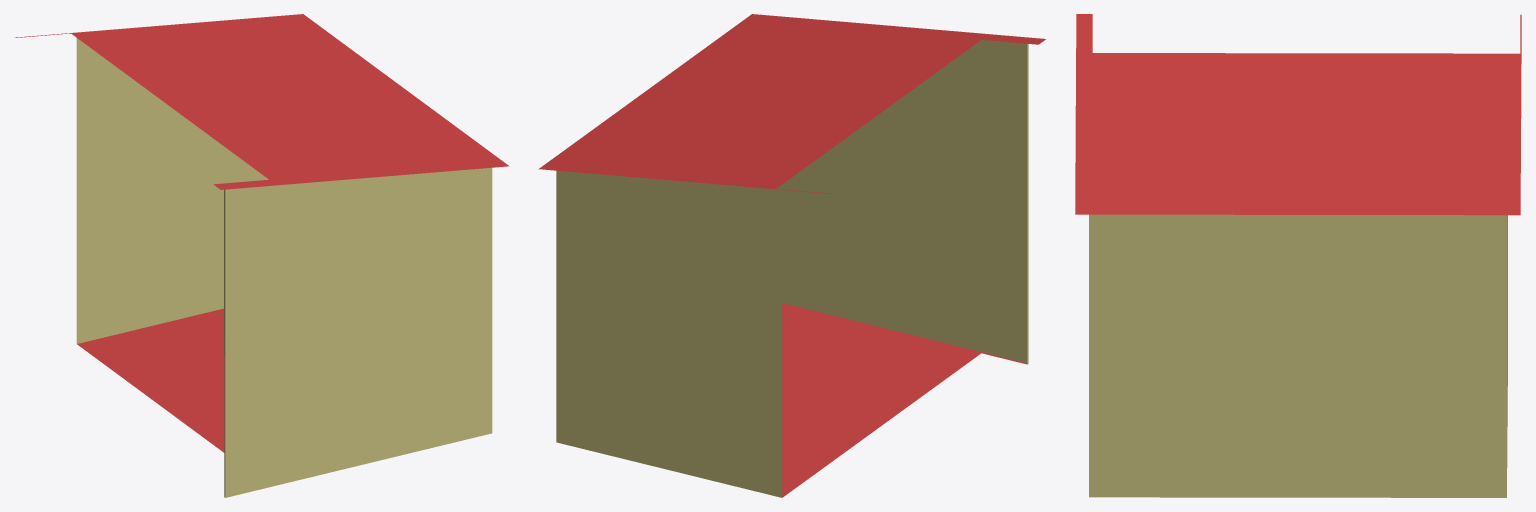
3 renders of one model, left to right at view 1: azimuth 30°, elevation 25°; view 2: azimuth 150°, elevation 25°; view 3: azimuth 270°, elevation 25°, orthographic. The views are drawn at different scales.
Bounding box in the file's own units: 6.51 × 8.11 × 6.78.
